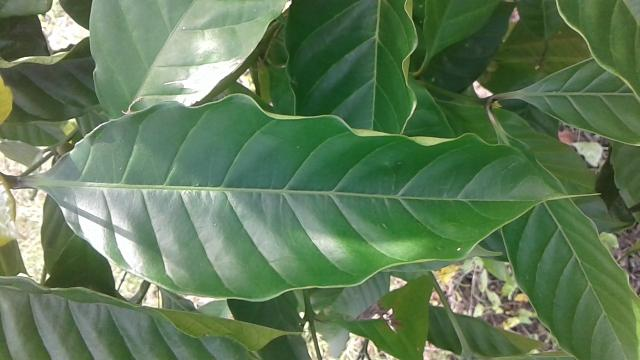healthy: (33, 92, 605, 301)
